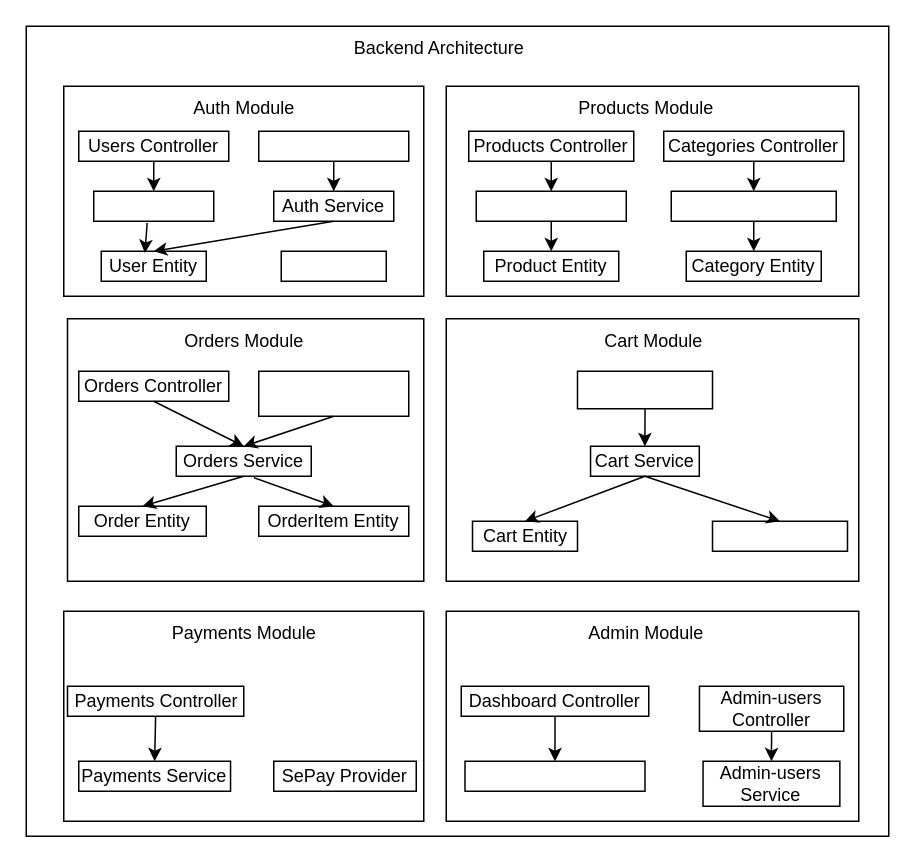
This 915x863 diagram has some shape labels left out. The shapes that lost their labels are listed below. From the top down, each one's centre as x and y in pixels, then its label:
At point 333,145: "Auth Controller".
At point 153,205: "Users Service".
At point 550,205: "Products Service".
At point 753,205: "Categories Service".
At point 333,265: "JWT Guards".
At point 333,393: "Admin Orders Controller".
At point 644,389: "Cart Controller".
At point 779,535: "CartItem Entity".
At point 554,775: "Dashboard Service".
